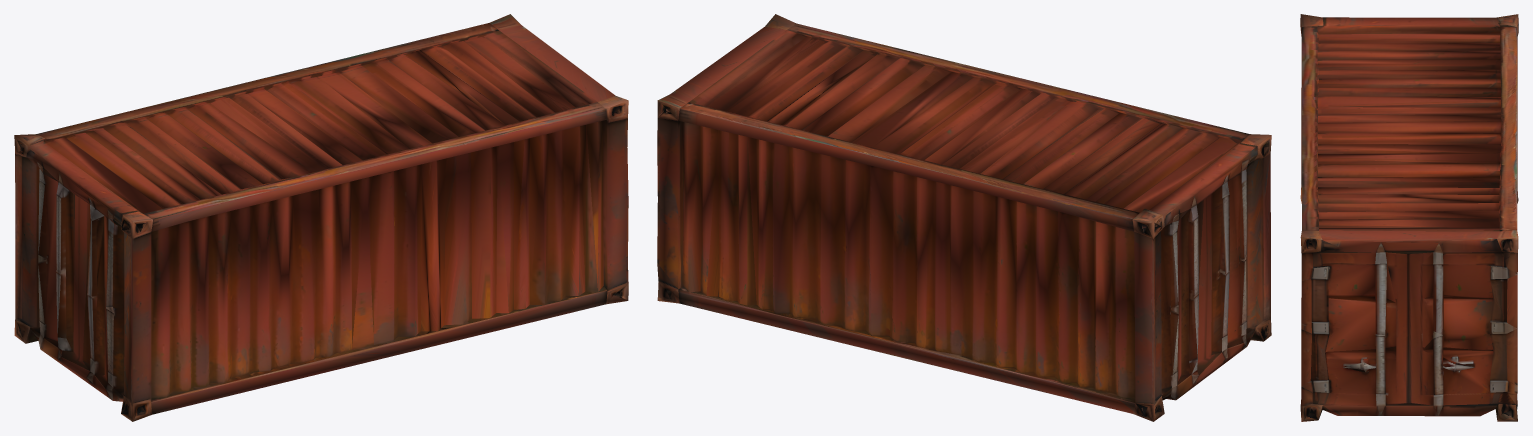
The model's file is Container.fbx.
3 renders of one model, left to right at view 1: azimuth 30°, elevation 25°; view 2: azimuth 150°, elevation 25°; view 3: azimuth 270°, elevation 25°, orthographic. The views are drawn at different scales.
Visible parts, largest first — view 1: node_0; view 2: node_0; view 3: node_0.
Part boxes in pixels (x1,y1,x2,y2): node_0: (14, 14, 628, 421); node_0: (657, 14, 1271, 421); node_0: (1300, 14, 1518, 421).
Bounding box in the file's own units: 105 × 40.34 × 43.17.
Materials: 1 (1 with a texture image).
